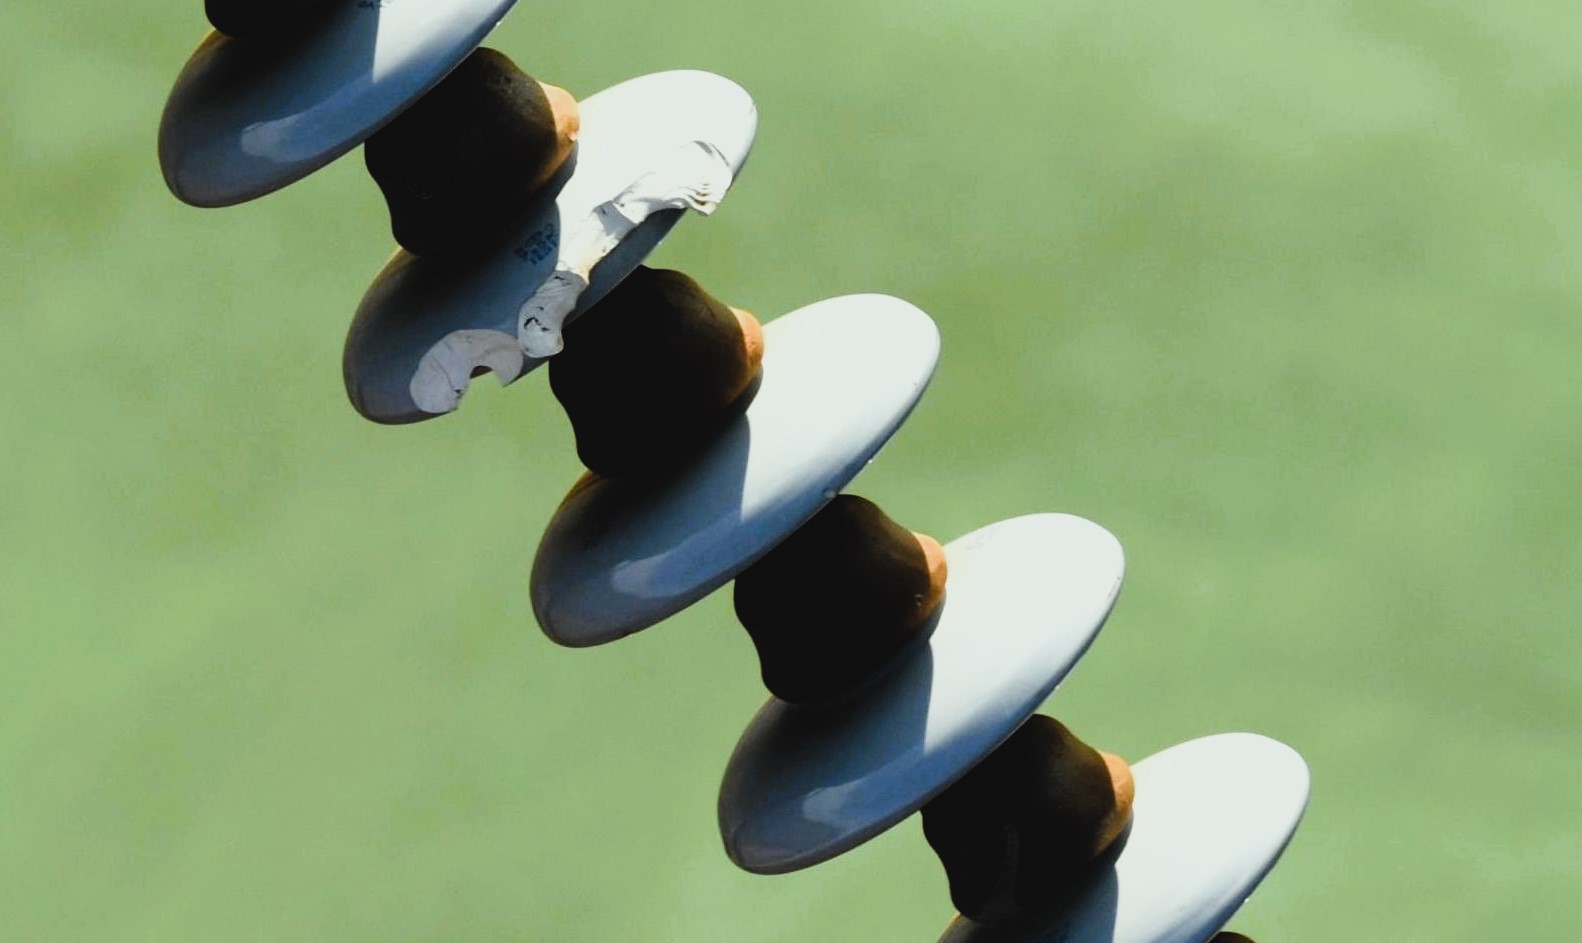insulator breakage: (318, 62, 755, 450)
